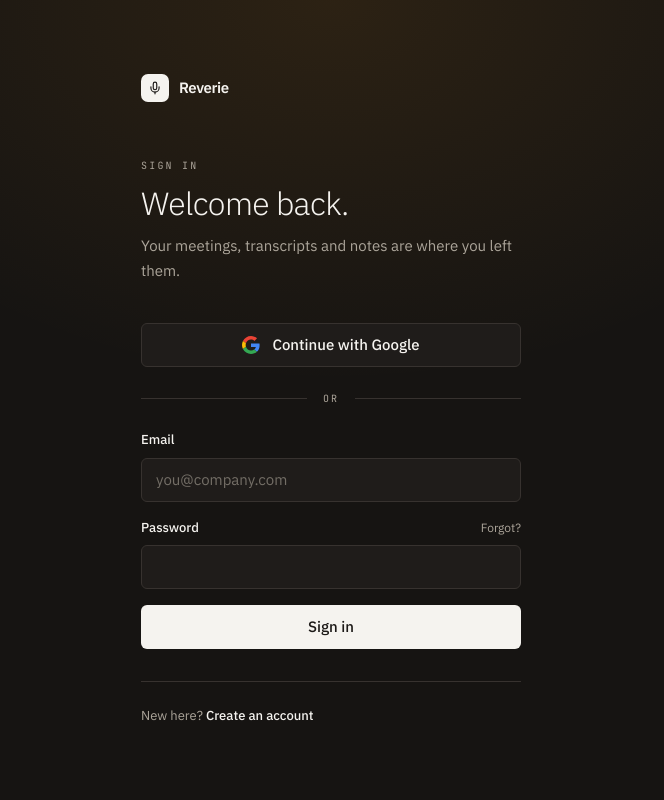
Test: signing in › does not strand somebody on a step it cannot draw
Expected: the button "Sign in" is shown, [141,605,521,649]
Type "ada@example.com" into the field labelled "Email".
click(331, 480); type("ada@example.com")  # box [141,458,521,502]
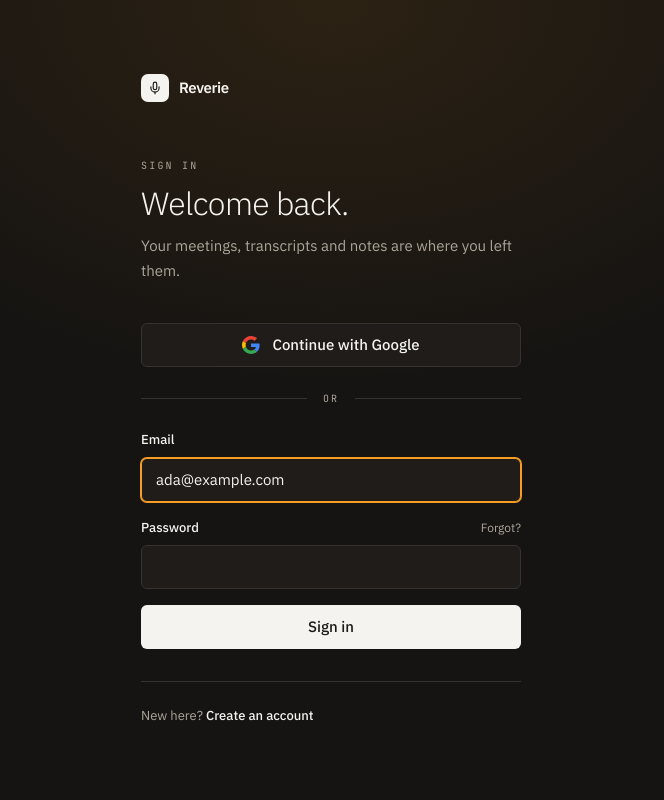
Type "hunter22" into the password field labelled "Password".
click(331, 567); type("hunter22")  # box [141,545,521,589]
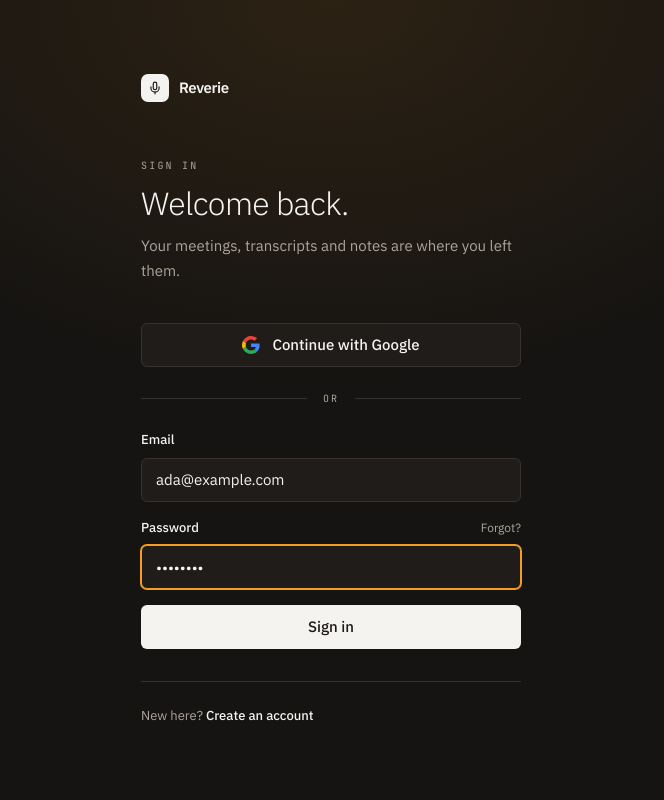
Click the button "Sign in".
click(331, 627)  # box [141,605,521,649]
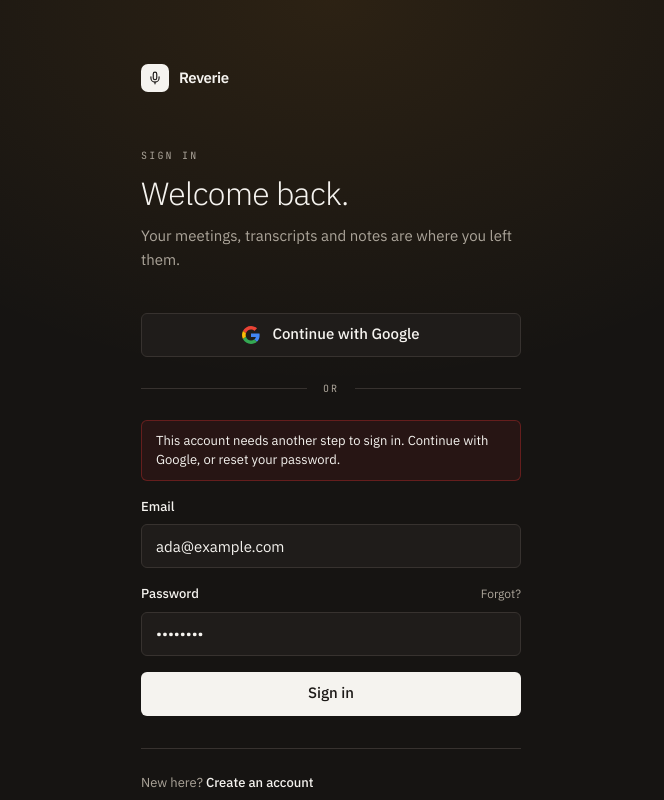
Now the message shows "another step", box [156,432,488,468]
